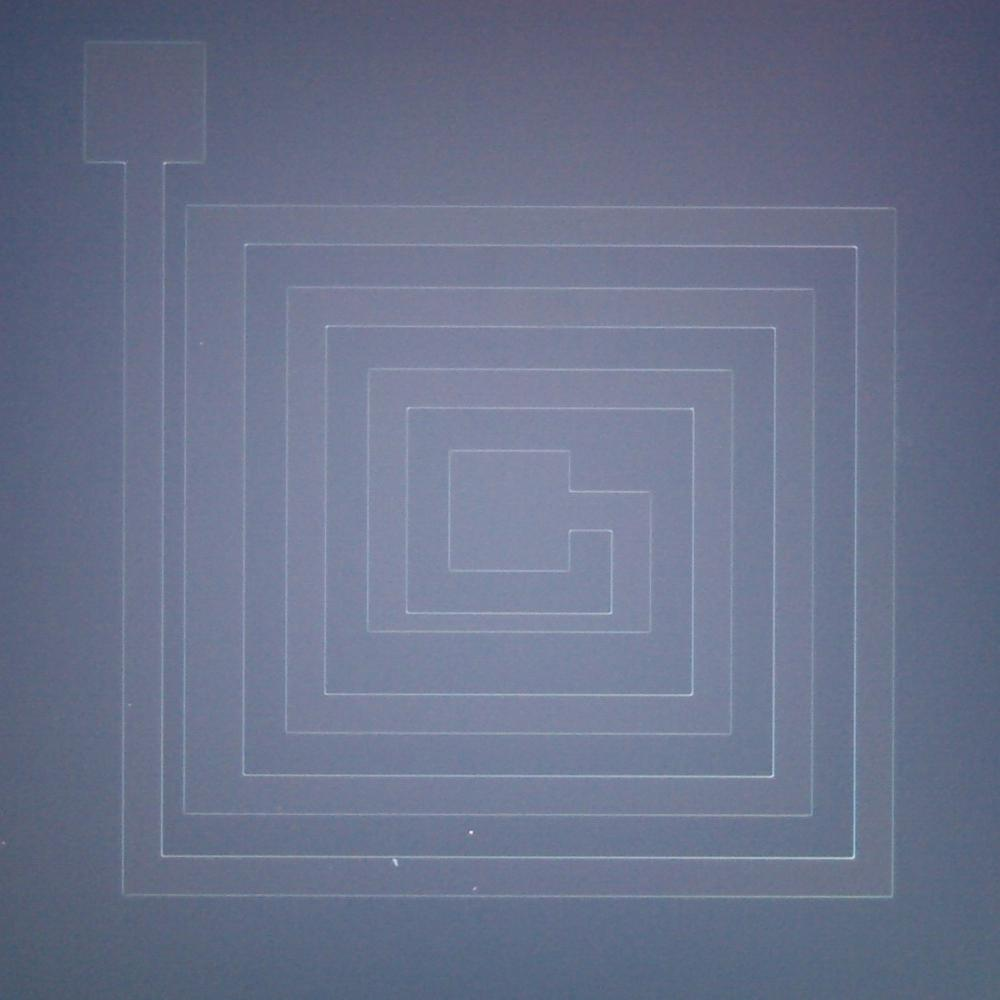dot: (392, 859, 399, 867), (472, 886, 476, 890), (469, 831, 473, 835)
